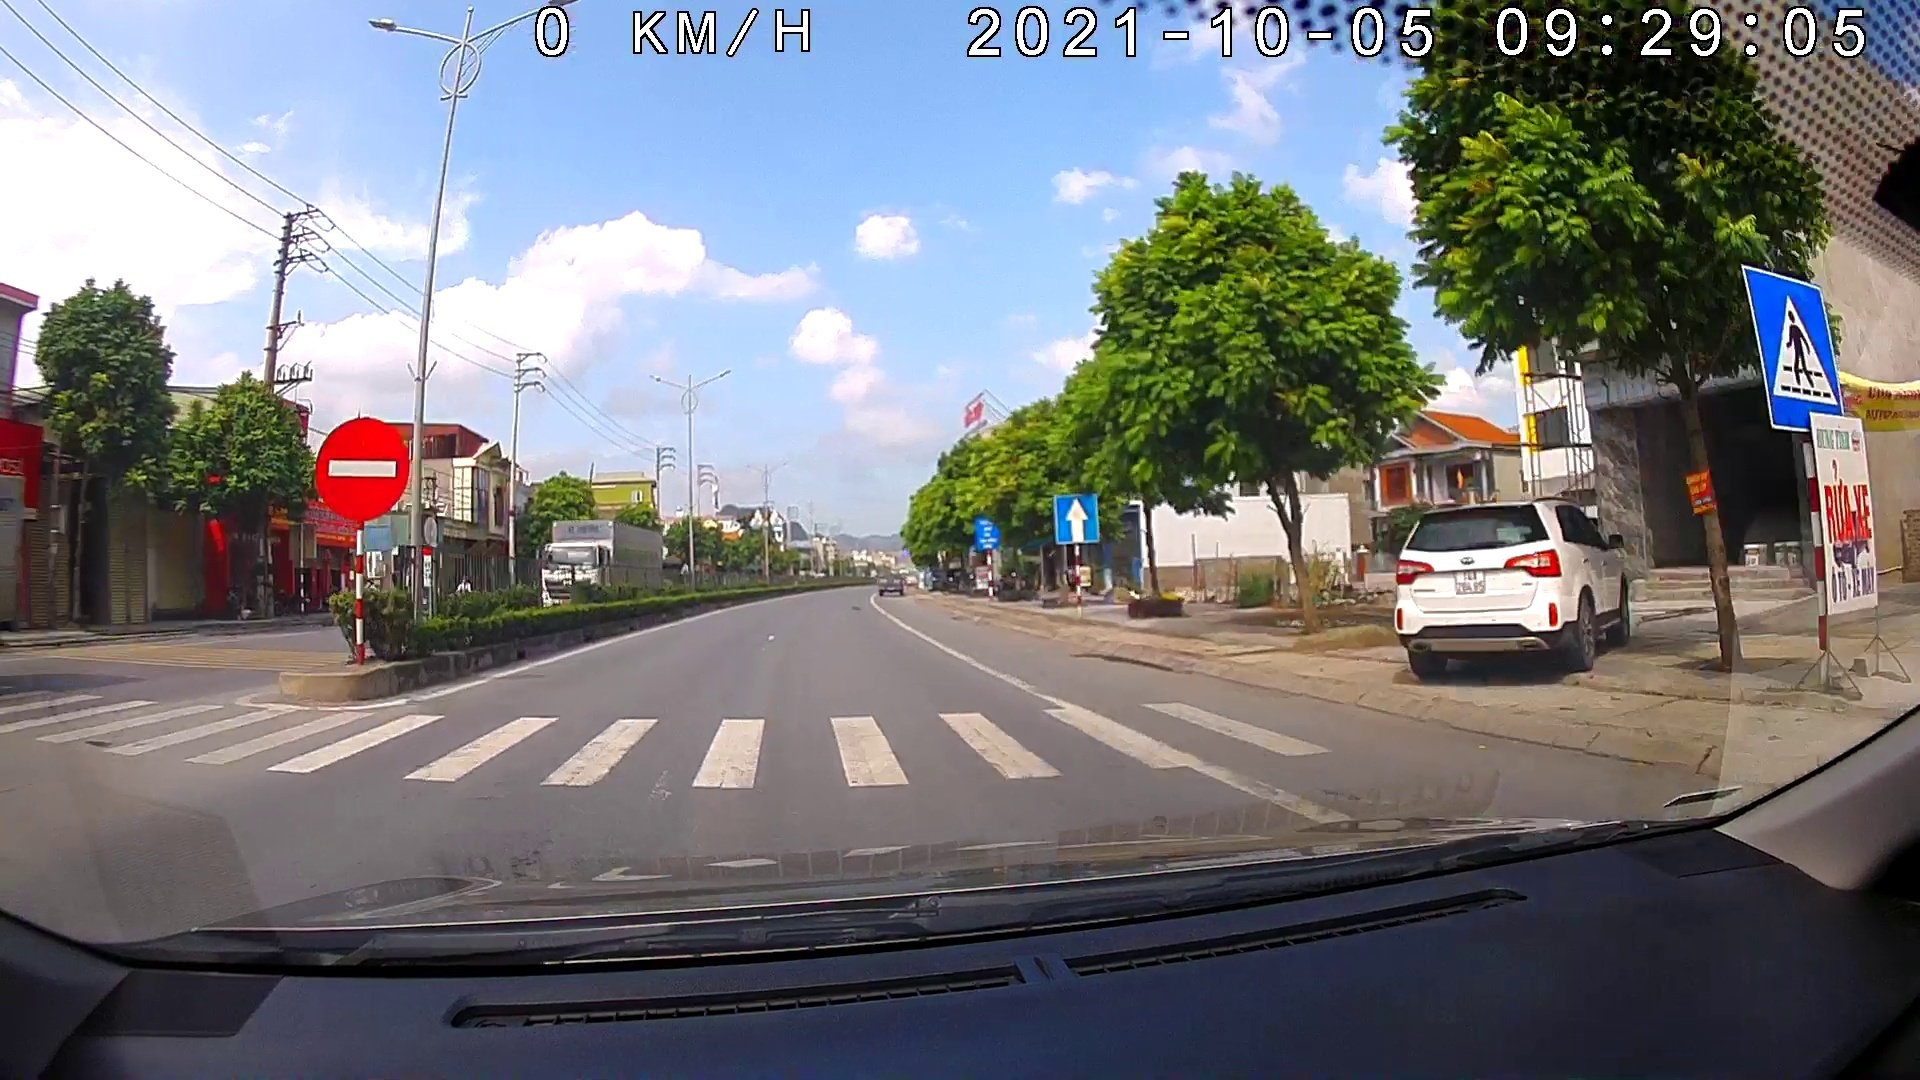Bien khac: (1054, 493, 1102, 545)
Cam di nguoc chieu: (309, 415, 411, 520)
Nguoi di bo: (1739, 258, 1850, 436)
